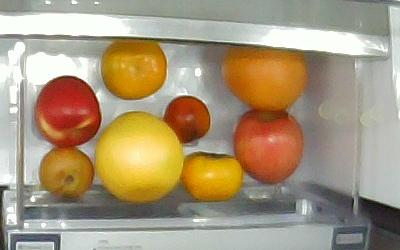apple: (234, 109, 304, 185), (35, 75, 102, 148)
grapefruit: (94, 111, 182, 202), (221, 46, 307, 110)
persimmon: (101, 40, 167, 100), (182, 151, 242, 202)
prune: (39, 146, 94, 199), (162, 96, 211, 144)
